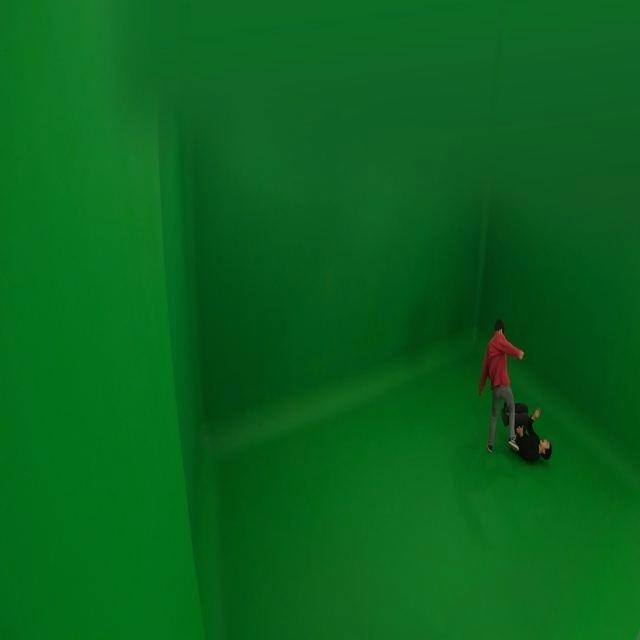fight: (478, 320, 554, 464)
